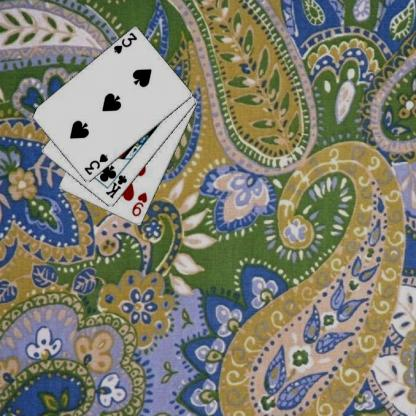3S: (111, 30, 138, 55), (82, 152, 109, 176)
9H: (130, 190, 148, 218)
KC: (103, 168, 128, 200)
